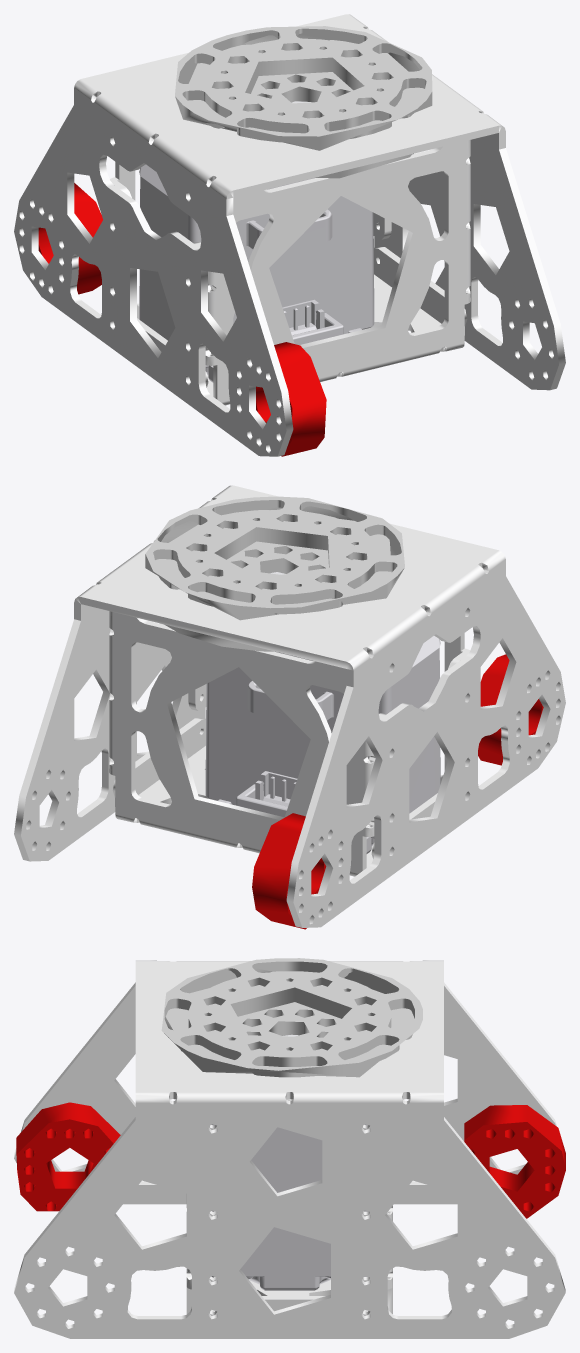
The model's file is link01_waist.dae.
3 views of the same model, one above another, from view 1: azimuth 30°, elevation 25°; view 2: azimuth 150°, elevation 25°; view 3: azimuth 270°, elevation 25° (orthographic).
Parts seen in each view (by area): view 1: ソリッド1_002, ソリッド1_3_001, ソリッド1_4_001, ソリッド1_1_002, ソリッド1_7_001, ソリッド1_5_001, ソリッド1_8_001; view 2: ソリッド1_002, ソリッド1_3_001, ソリッド1_4_001, ソリッド1_1_002, ソリッド1_8_001, ソリッド1_5_001, ソリッド1_7_001, ソリッド1_6_001; view 3: ソリッド1_002, ソリッド1_4_001, ソリッド1_1_002, ソリッド1_8_001, ソリッド1_7_001, ソリッド1_5_001, ソリッド1_3_001.
Boxes of the visible parts, bbox=[...] form: ソリッド1_002: bbox=[14, 14, 565, 456]; ソリッド1_3_001: bbox=[110, 140, 470, 405]; ソリッド1_4_001: bbox=[175, 26, 432, 150]; ソリッド1_1_002: bbox=[139, 164, 374, 382]; ソリッド1_7_001: bbox=[256, 342, 326, 456]; ソリッド1_5_001: bbox=[251, 72, 353, 107]; ソリッド1_8_001: bbox=[38, 183, 102, 294]; ソリッド1_002: bbox=[14, 485, 565, 927]; ソリッド1_3_001: bbox=[109, 611, 469, 876]; ソリッド1_4_001: bbox=[145, 496, 404, 620]; ソリッド1_1_002: bbox=[205, 636, 440, 853]; ソリッド1_8_001: bbox=[252, 813, 326, 929]; ソリッド1_5_001: bbox=[227, 541, 328, 577]; ソリッド1_7_001: bbox=[478, 654, 543, 765]; ソリッド1_6_001: bbox=[164, 624, 274, 651]; ソリッド1_002: bbox=[14, 960, 565, 1338]; ソリッド1_4_001: bbox=[161, 958, 422, 1077]; ソリッド1_1_002: bbox=[211, 1124, 368, 1290]; ソリッド1_8_001: bbox=[464, 1105, 565, 1218]; ソリッド1_7_001: bbox=[16, 1102, 120, 1211]; ソリッド1_5_001: bbox=[238, 1002, 341, 1037]; ソリッド1_3_001: bbox=[186, 1124, 392, 1315].
Bounding box in the file's own units: 0.061 × 0.1031 × 0.054.
